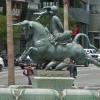Statue: (12, 10, 98, 77)
